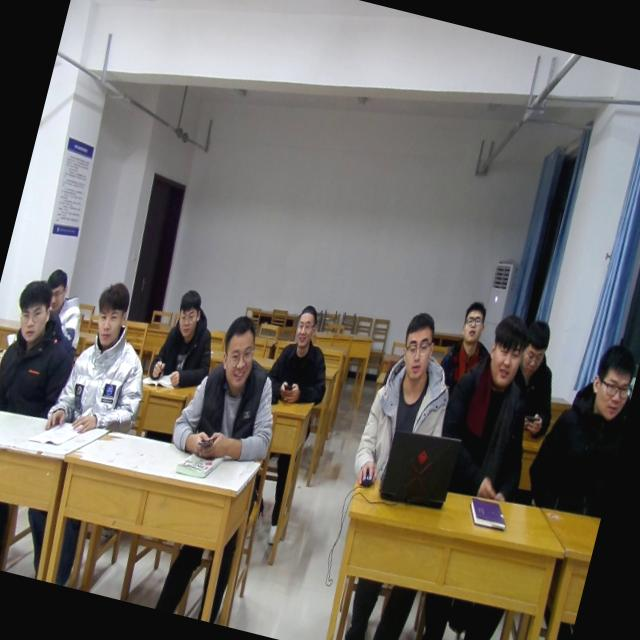down: (517, 314, 558, 376)
lookup: (577, 332, 640, 426), (211, 310, 268, 398), (475, 310, 533, 396), (85, 273, 138, 351), (392, 307, 442, 386), (2, 276, 54, 350), (168, 286, 208, 342), (453, 293, 493, 349), (40, 263, 76, 316), (288, 297, 322, 353)
sit: (426, 309, 560, 508), (347, 304, 474, 503), (520, 325, 640, 526), (42, 270, 170, 452), (167, 300, 300, 473), (0, 272, 90, 424), (424, 293, 505, 427), (500, 314, 578, 442), (261, 296, 346, 412), (143, 282, 228, 394), (26, 263, 99, 356)
